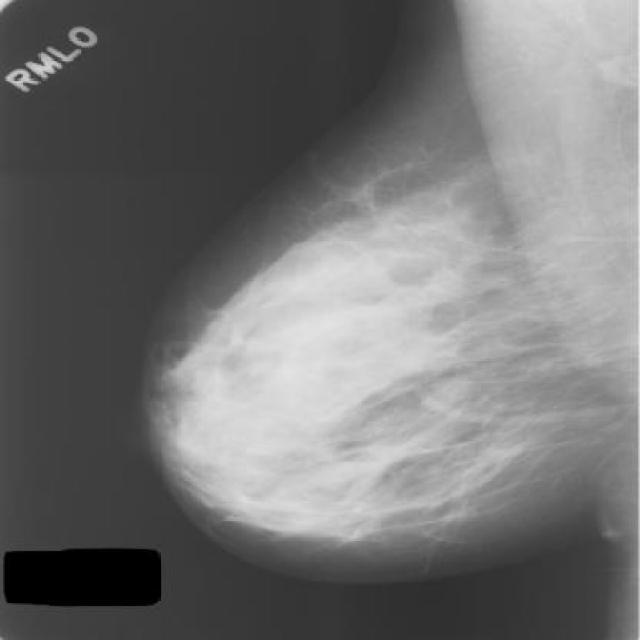tumor: (188, 238, 536, 546)
